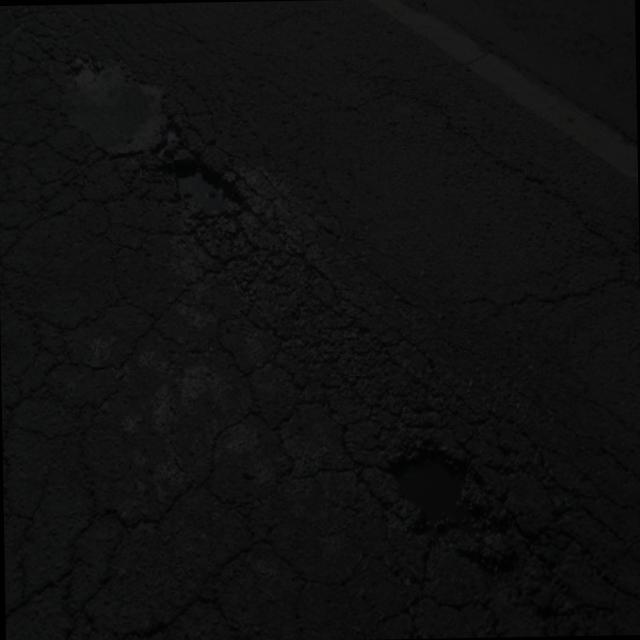pothole: (365, 422, 527, 574), (142, 140, 266, 258)
